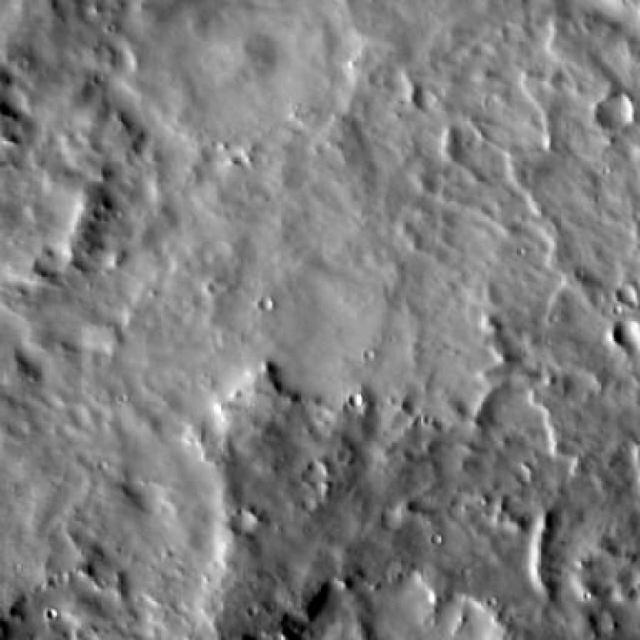crater: (129, 0, 370, 175), (598, 96, 638, 132), (609, 311, 640, 355), (232, 514, 257, 538), (412, 87, 433, 108)
